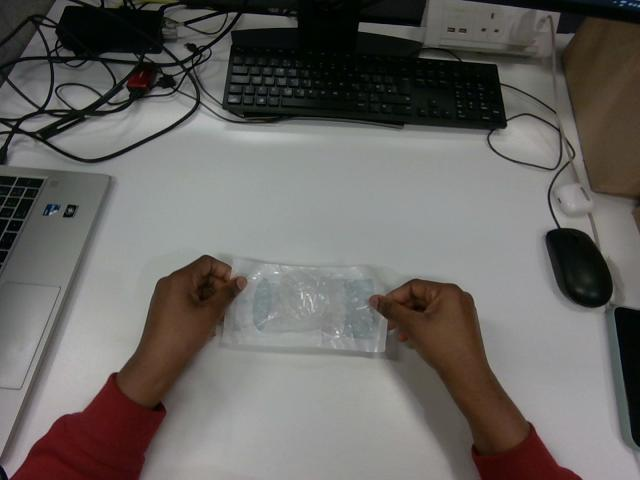gallipot: (222, 259, 386, 351)
